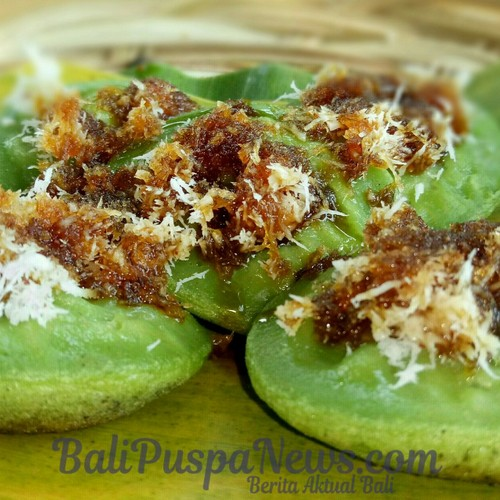laklak: (13, 83, 500, 435)
